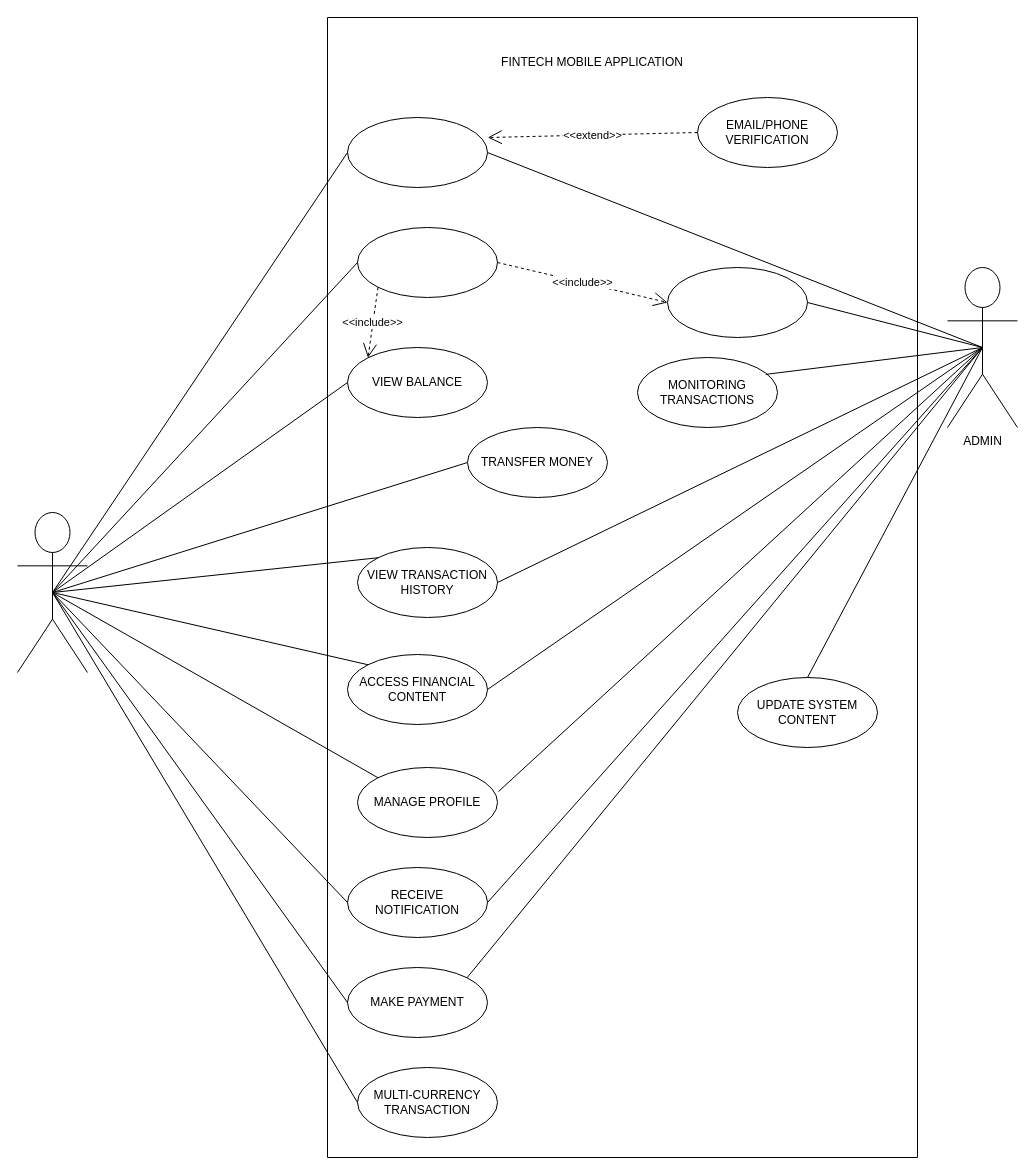
Some shapes in this 1035 by 1175 pixel diagram are drawn without their labels. The shapes that lost their labels are listed below. From the top down, each one's box as (x1, y1, x2, y2) in pixels, then its label:
(346, 116, 488, 188): REGISTER ACCOUNT
(356, 226, 498, 298): LOGIN
(666, 266, 808, 338): MANAGE USERS
(16, 512, 88, 672): USER
